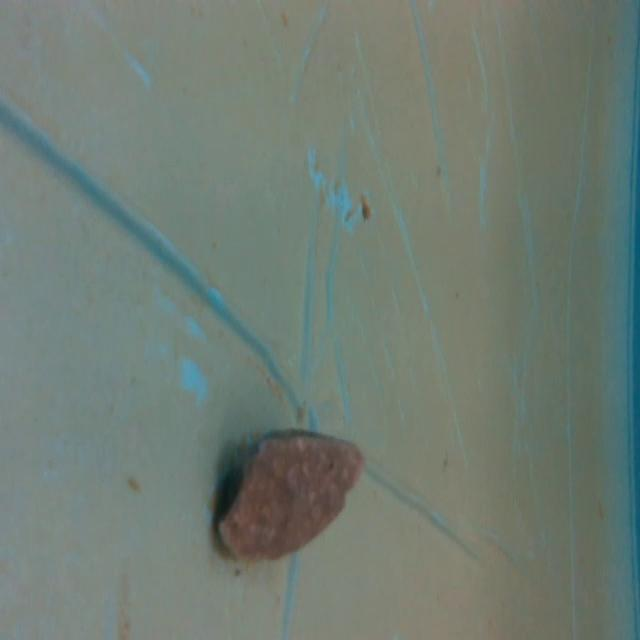rock: (210, 413, 377, 571)
